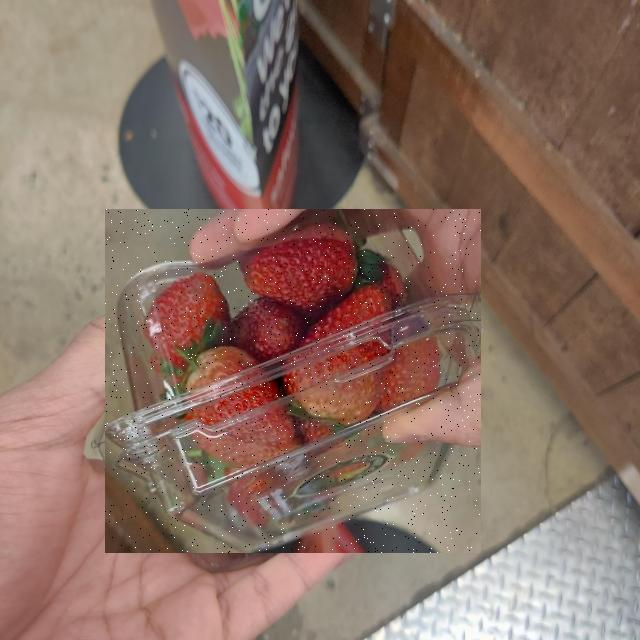Straw Berry: (105, 209, 481, 553)
